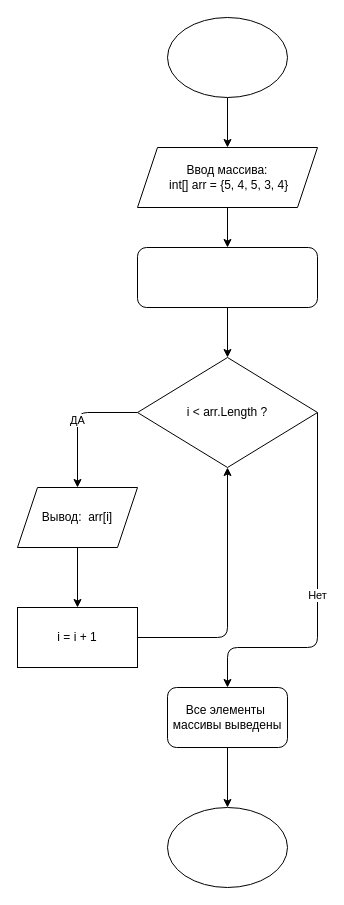
Some shapes in this 344 by 905 pixel diagram are drawn without their labels. Here are the shapes that lost their labels. From the top down, the box of each, then its label:
(166, 16, 288, 98): Начало
(136, 246, 318, 308): i = 0
(166, 806, 288, 888): Конец
